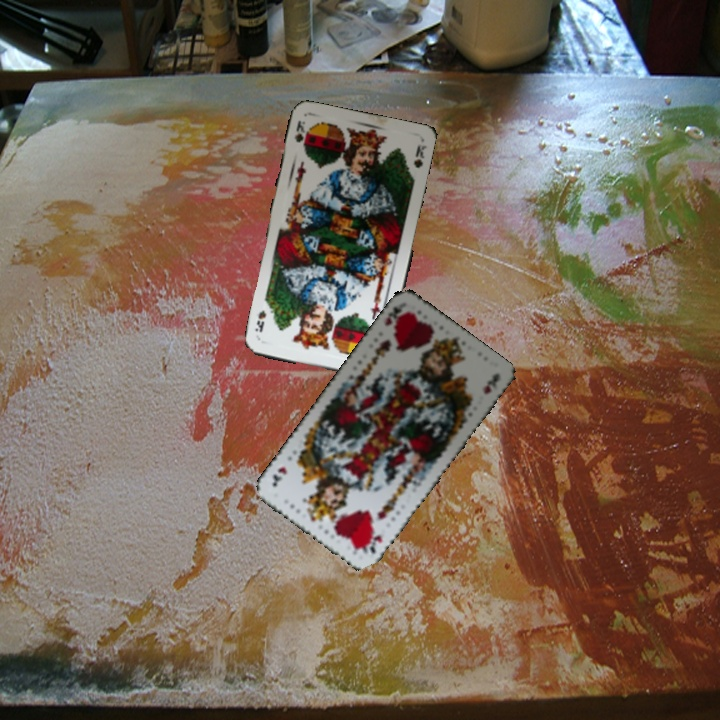HK: (381, 302, 410, 328), (360, 531, 385, 557)
SK: (290, 116, 310, 149)
